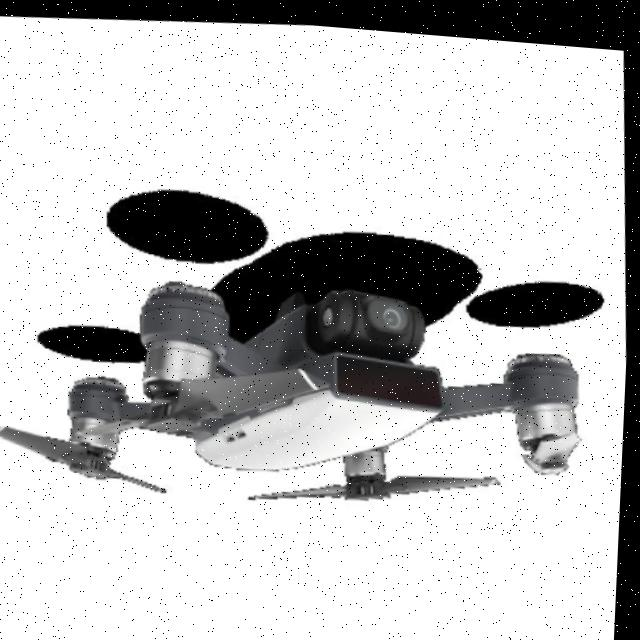drones: (0, 195, 620, 566)
